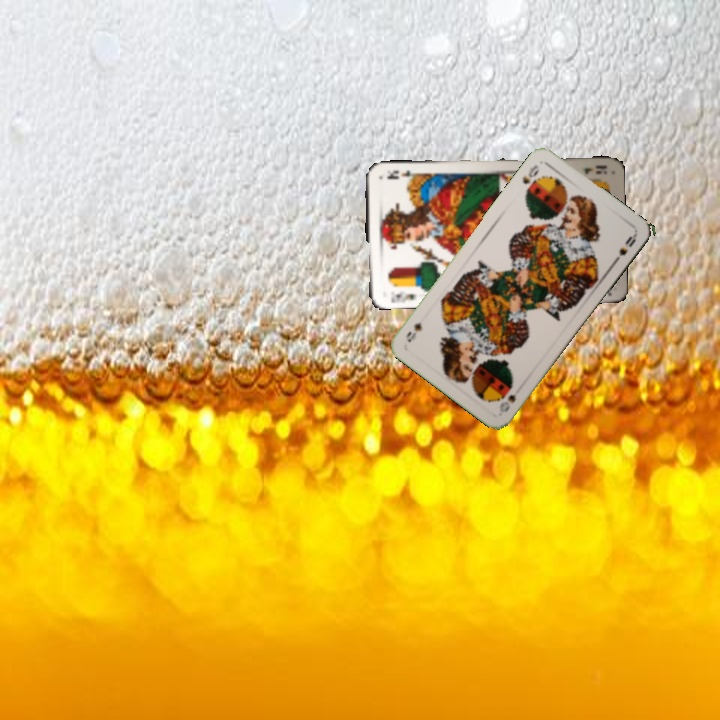EK: (387, 287, 419, 304), (580, 161, 608, 177)
SO: (518, 160, 542, 195), (495, 390, 519, 415)
